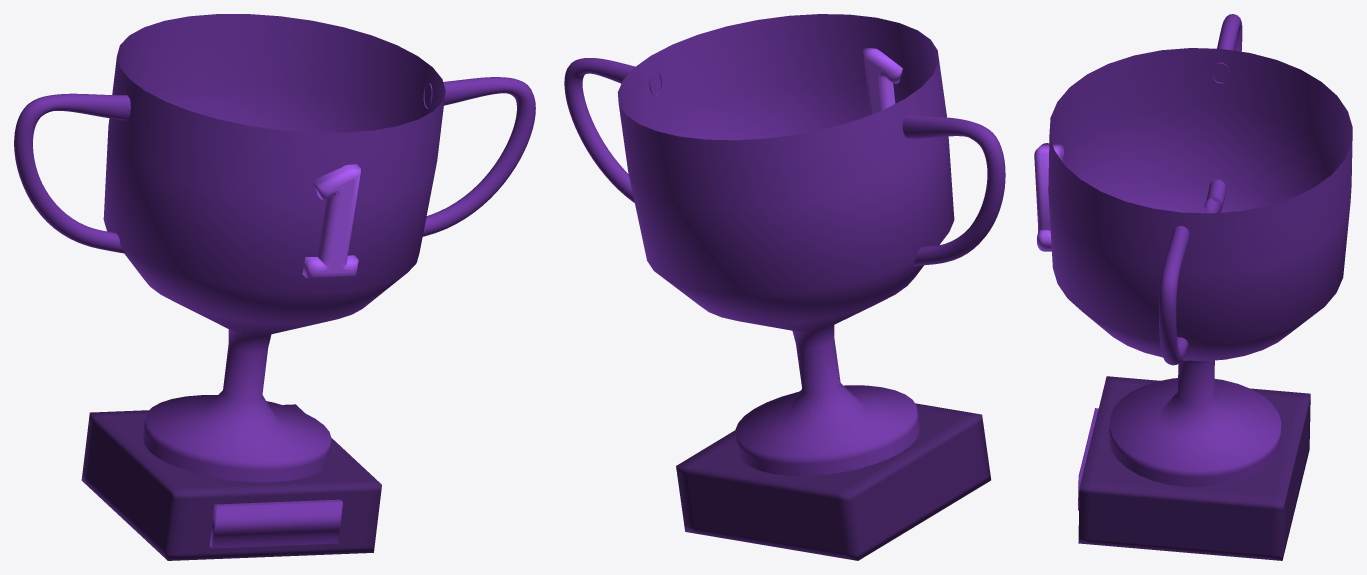
The model's file is Trophy.gltf.
3 renders of one model, left to right at view 1: azimuth 30°, elevation 25°; view 2: azimuth 150°, elevation 25°; view 3: azimuth 270°, elevation 25°, orthographic. The views are drawn at different scales.
Parts seen in each view (by area): view 1: Circle.017, Cube.063, BezierCurve.003, BezierCurve.002, Text.007; view 2: Circle.017, Cube.063, BezierCurve.003, BezierCurve.002, Text.007; view 3: Circle.017, Cube.063, BezierCurve.002, Text.007, BezierCurve.003.
Part boxes in pixels (box(x1,y1,x2,y2)): Circle.017: box(103, 14, 445, 482); Cube.063: box(81, 404, 381, 560); BezierCurve.003: box(14, 93, 130, 253); BezierCurve.002: box(422, 77, 535, 236); Text.007: box(302, 164, 360, 278); Circle.017: box(617, 14, 954, 475); Cube.063: box(676, 391, 991, 560); BezierCurve.003: box(902, 114, 1005, 265); BezierCurve.002: box(564, 58, 661, 202); Text.007: box(863, 47, 902, 114); Circle.017: box(1048, 48, 1352, 487); Cube.063: box(1078, 376, 1310, 560); BezierCurve.002: box(1159, 226, 1189, 365); Text.007: box(1034, 143, 1063, 251); BezierCurve.003: box(1204, 14, 1242, 213).
Bounding box in the file's own units: 16.65 × 15.29 × 10.34.
